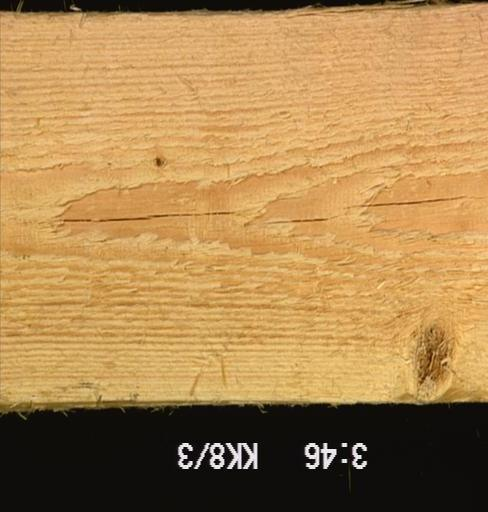small_knot: (151, 154, 166, 169)
sound_knot: (408, 316, 462, 401)
split: (61, 209, 237, 225), (348, 193, 470, 210), (263, 216, 344, 225)
wave: (0, 394, 486, 412)
